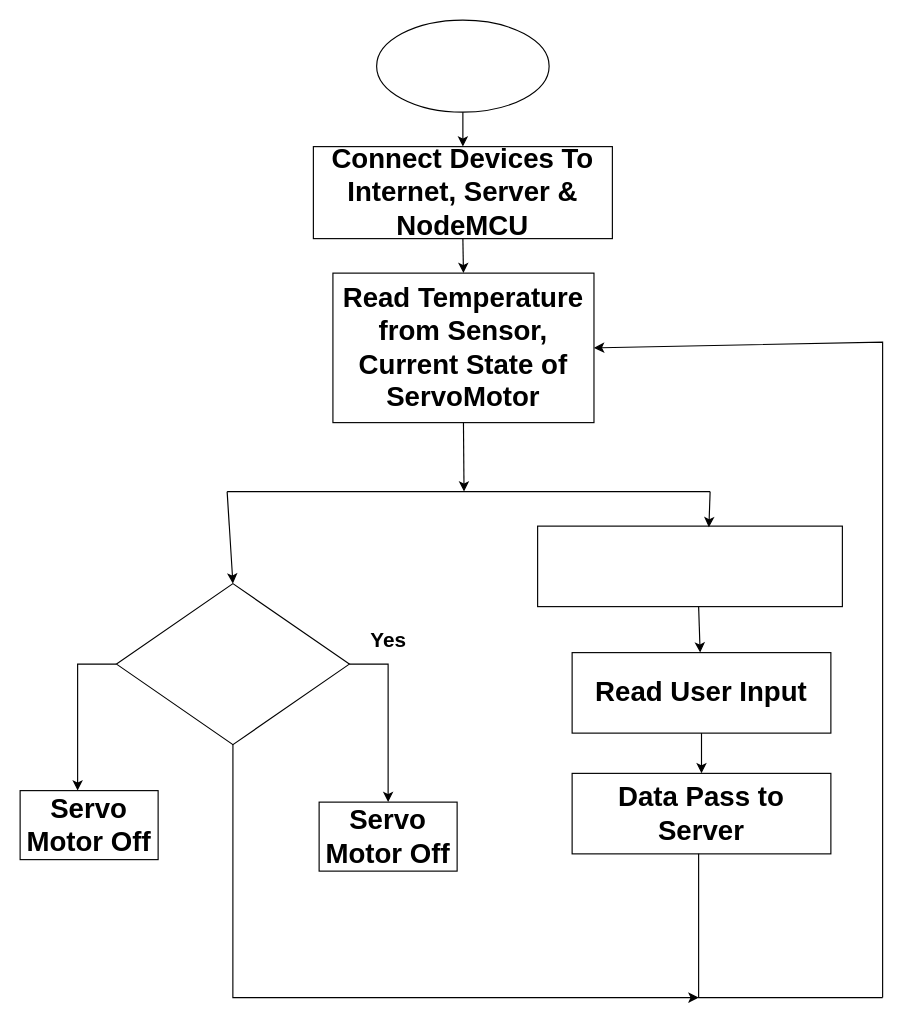
This 912x1027 diagram has some shape labels left out. Each missing label, with the centre of its shape:
Show Data To Application: point 689,566
Start: point 462,65
temperature =>40: point 232,663
